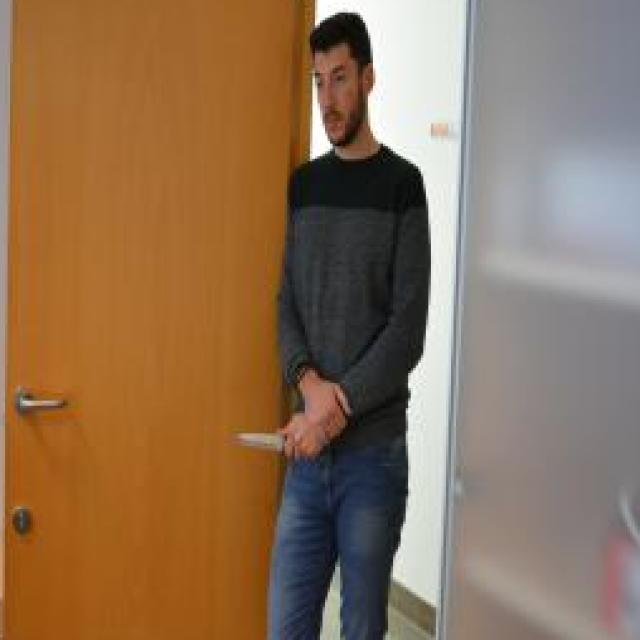knife: (229, 423, 295, 462)
